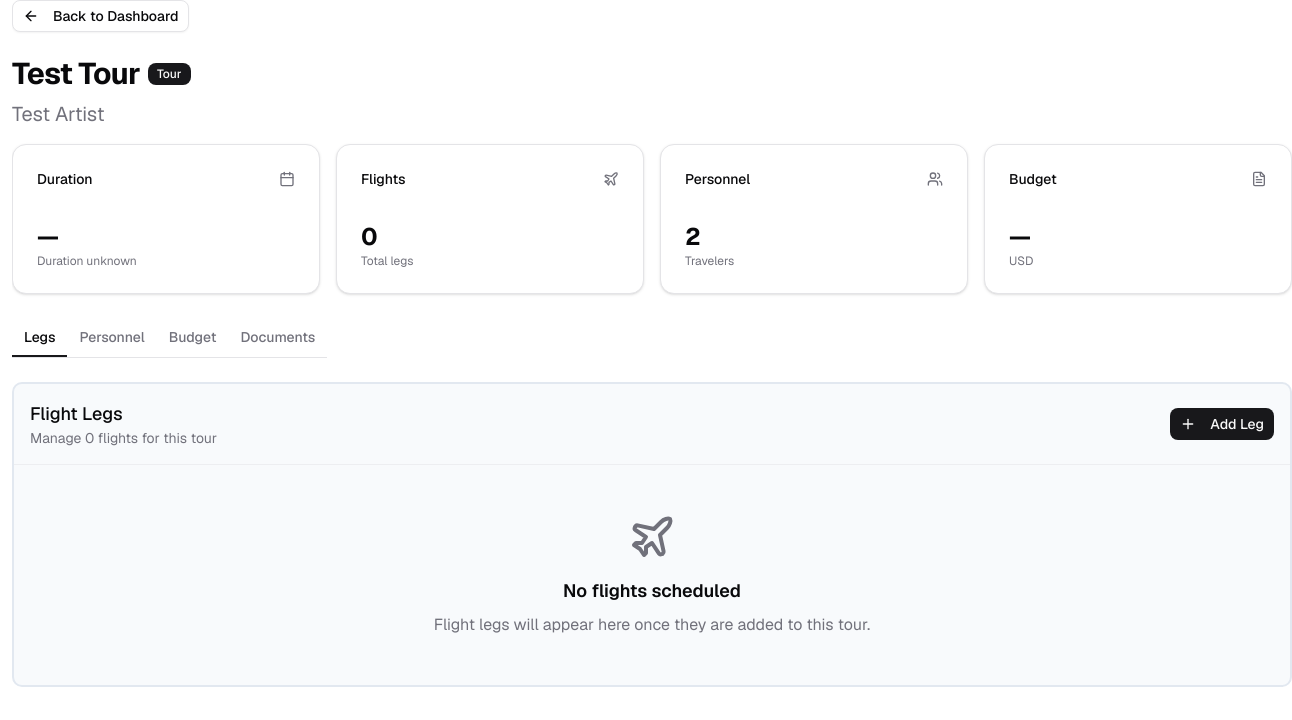
Test: Tour Page - Inline Party Selector Integration › Party Updates › should update party with optimistic UI
The width and height of the screenshot is (1292, 720).
Note: CONTEXT: Click on Personnel tab to show personnel data
Click the tab "Personnel": (112, 338) [68,318,157,356]
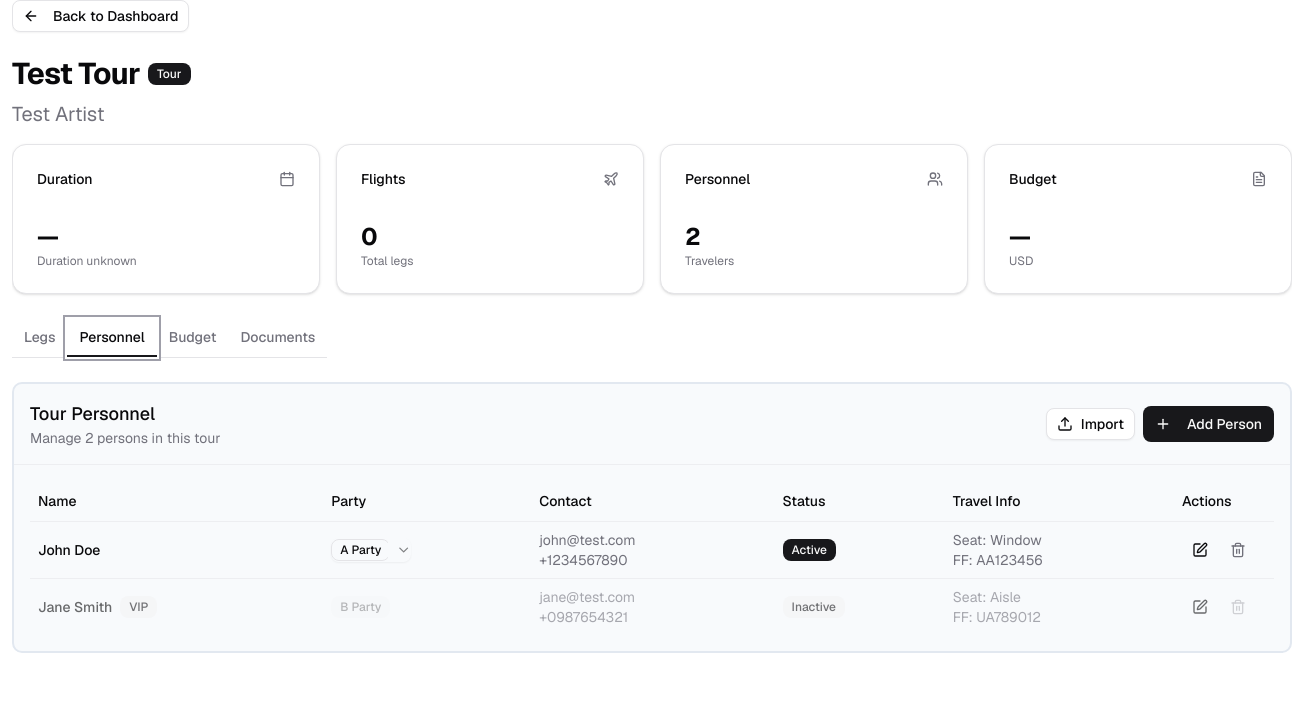
Expected: the dropdown labelled "A Party" is shown
Note: CONTEXT: Click to open selector
Click the dropdown labelled "A Party": (371, 550) [331,538,411,562]
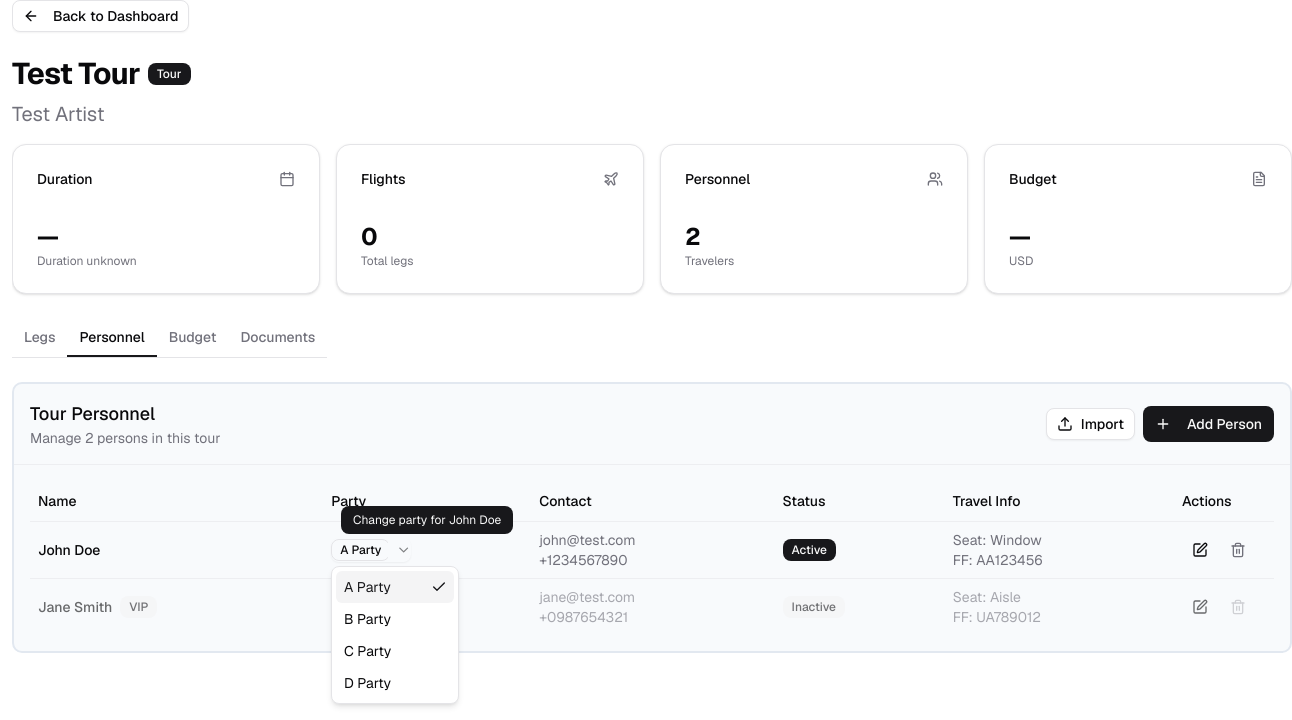
Note: CONTEXT: Select new party
Click the option "C Party": (368, 651) [344,642,391,660]
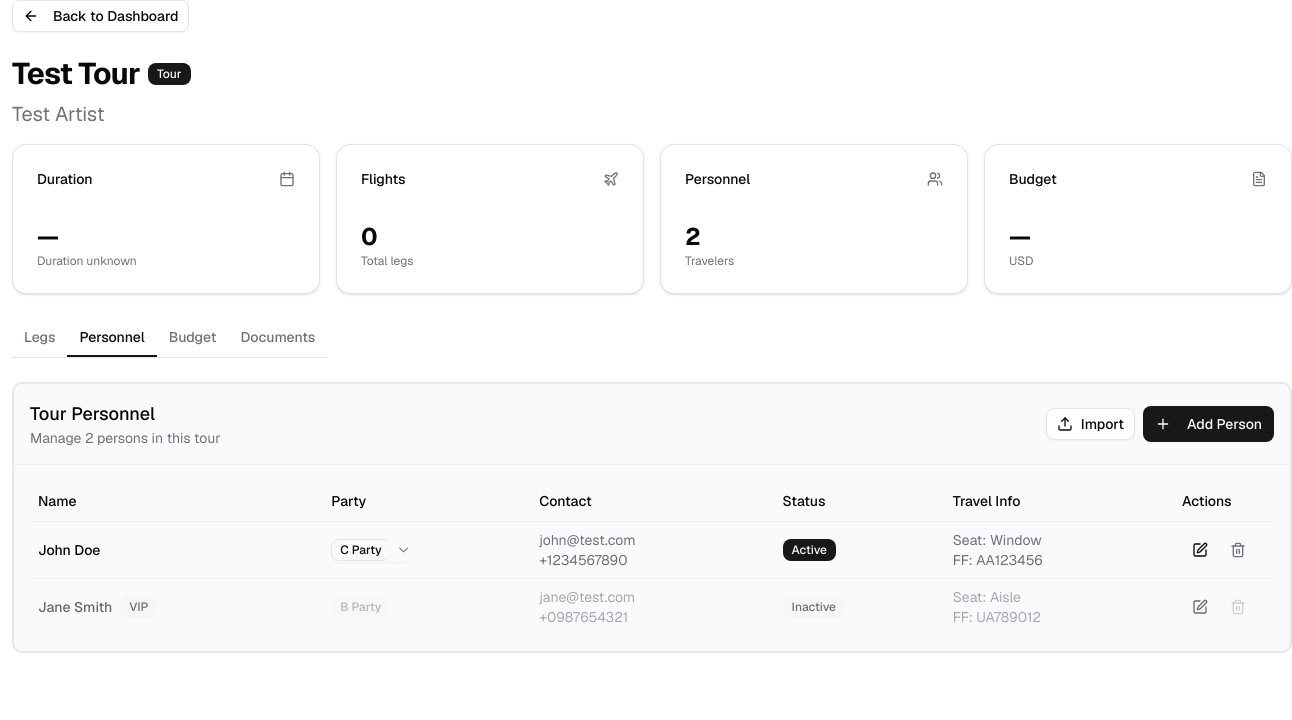
Expected: the text "C Party" is shown, [331,538,388,560]
